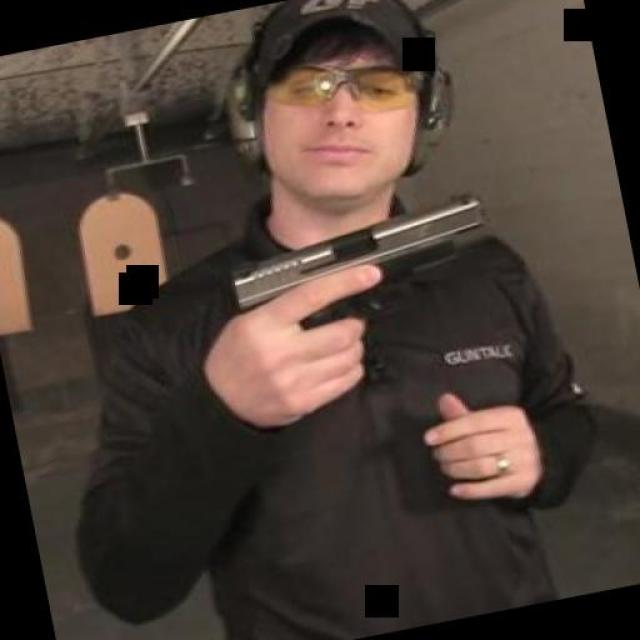gun: (214, 186, 520, 420)
